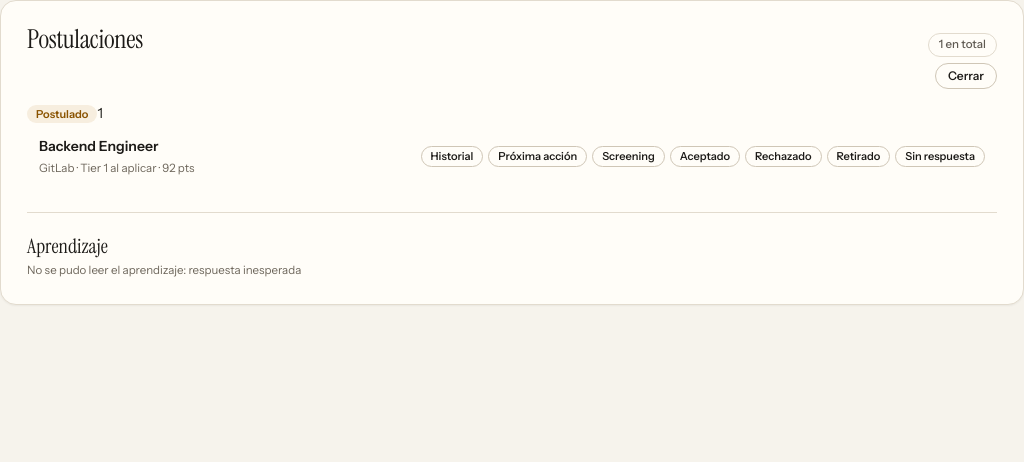
Test case: Pipeline — próxima acción (Fase 9) › un 422 del backend se muestra tal cual y el formulario conserva lo escrito
Click the button "Próxima acción".
click(538, 157)  # box 488,146 -> 587,167
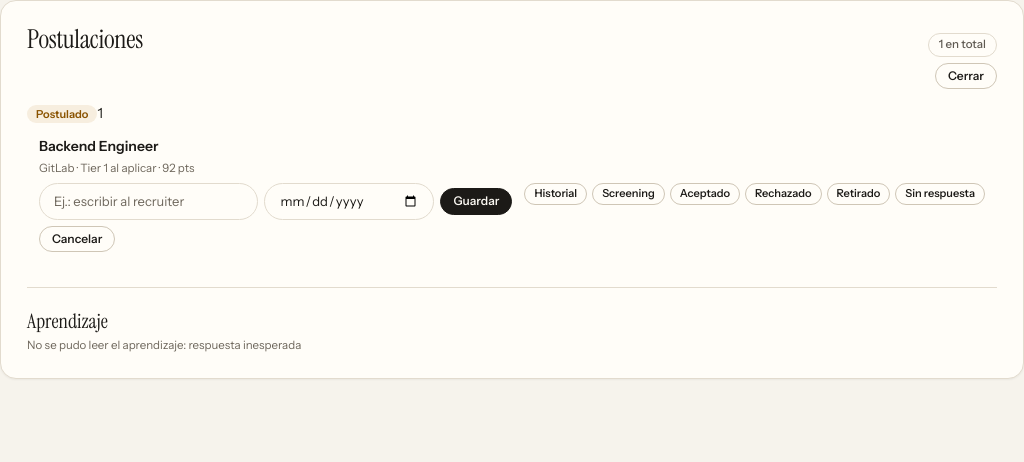
Type "mi texto" into the field named "Próxima acción".
click(149, 201); type("mi texto")  # box 39,183 -> 258,220
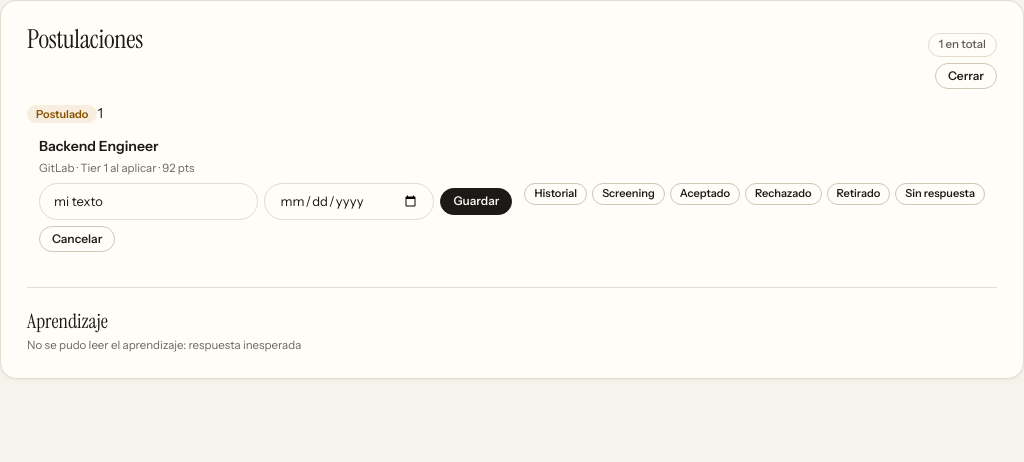
Click the button "Guardar".
click(476, 202)  # box 440,188 -> 512,215
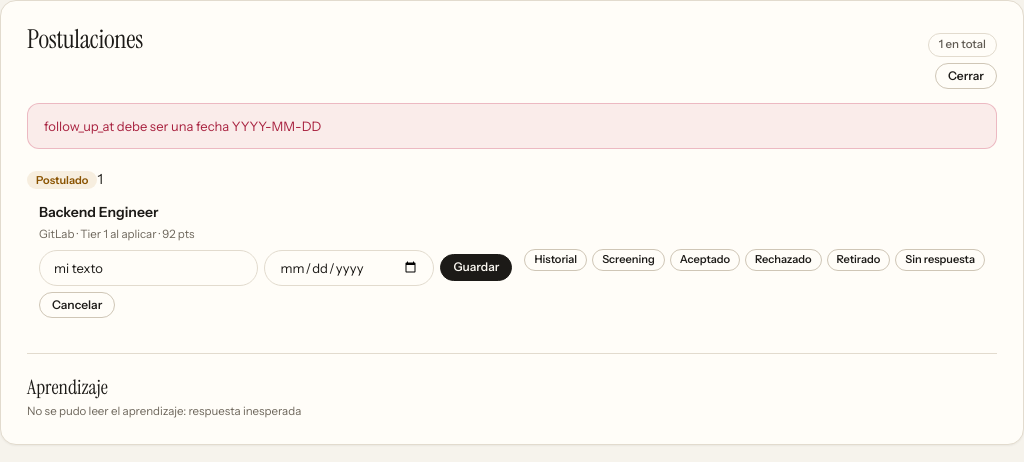
Expected: the text "follow_up_at debe ser una fecha YYYY-MM-DD" is shown, 27,103 -> 997,149
